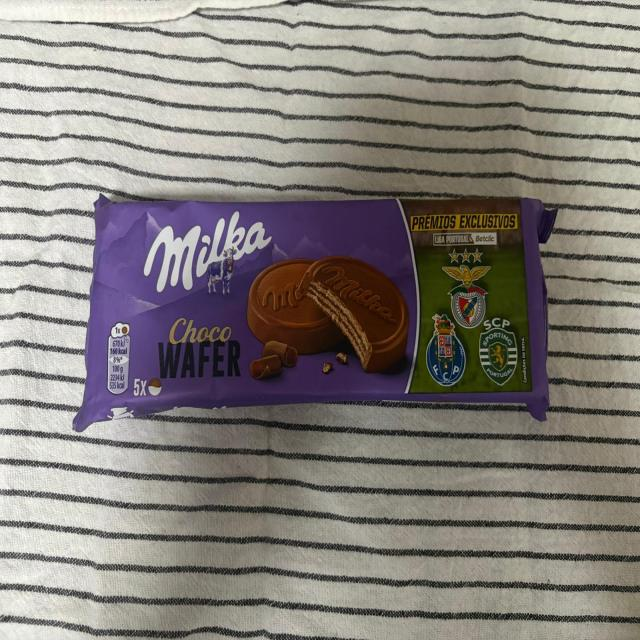good_package: (73, 195, 558, 432)
